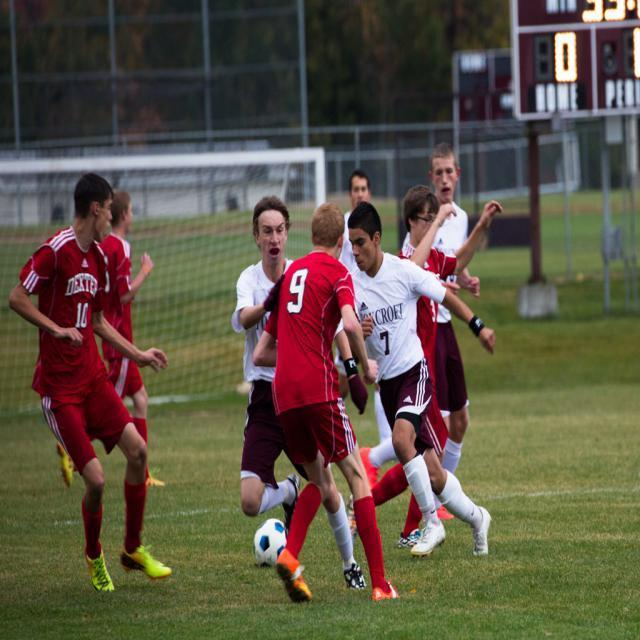football: (241, 514, 307, 569)
